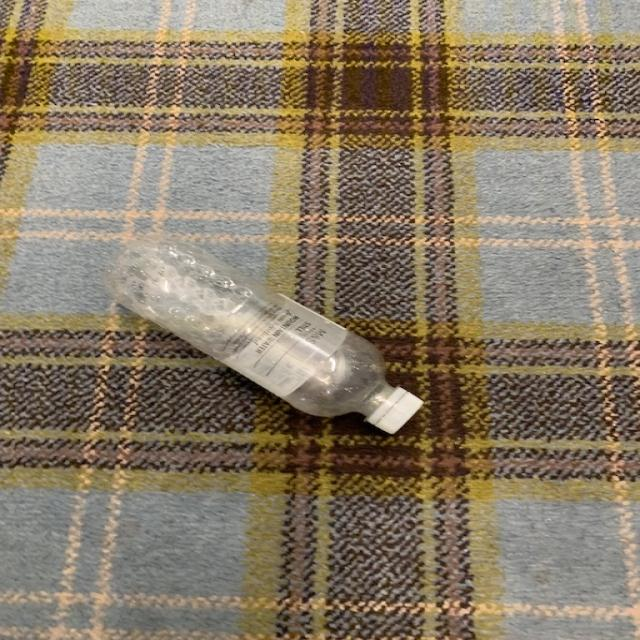Waste: (104, 235, 424, 434)
